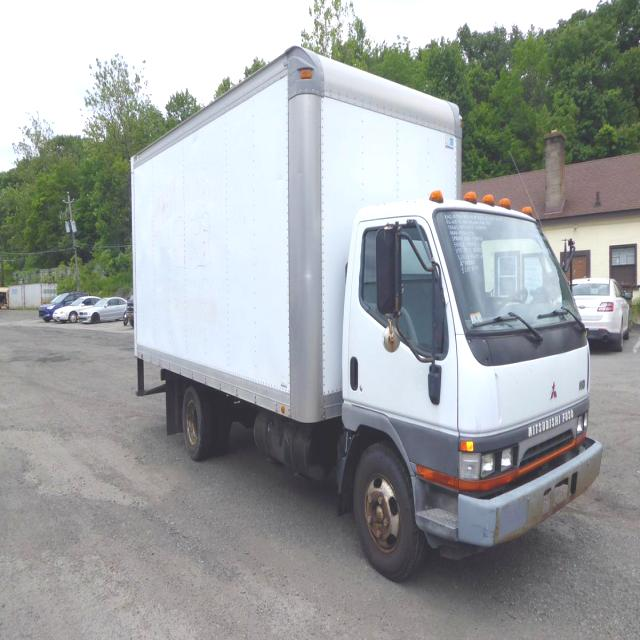truck: (123, 49, 604, 577)
